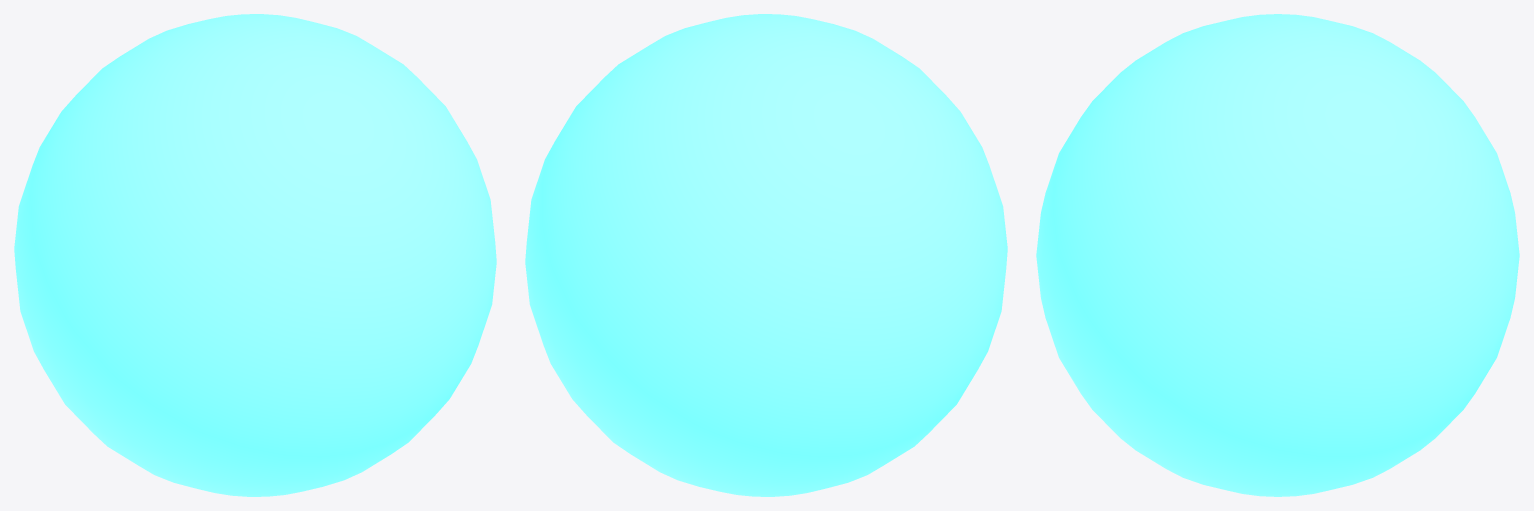
Rendered from shield.fbx.
3 views of the same model, side by side, from view 1: azimuth 30°, elevation 25°; view 2: azimuth 150°, elevation 25°; view 3: azimuth 270°, elevation 25° (orthographic).
Parts seen in each view (by area): view 1: Sphere; view 2: Sphere; view 3: Sphere.
Part boxes in pixels (x1,y1,x2,y2): Sphere: (14,14,496,496); Sphere: (525,14,1007,496); Sphere: (1036,14,1519,496).
Bounding box in the file's own units: 30.33 × 30.33 × 30.33.
